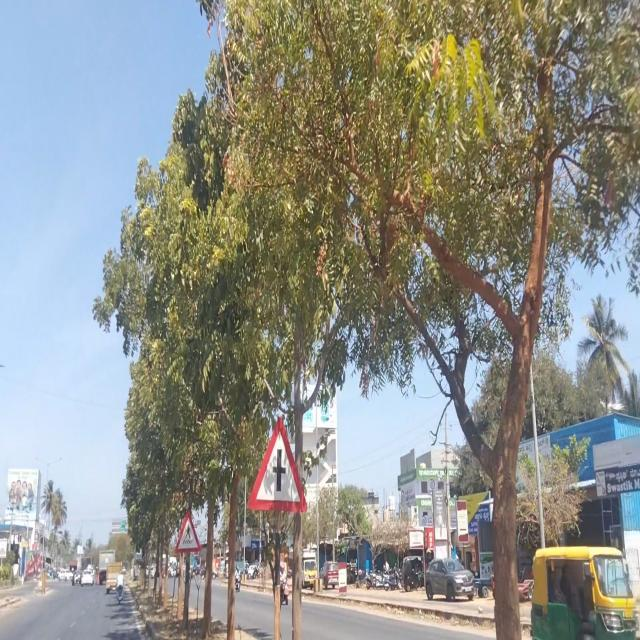bien_cam: (248, 414, 308, 513), (175, 506, 200, 554)
